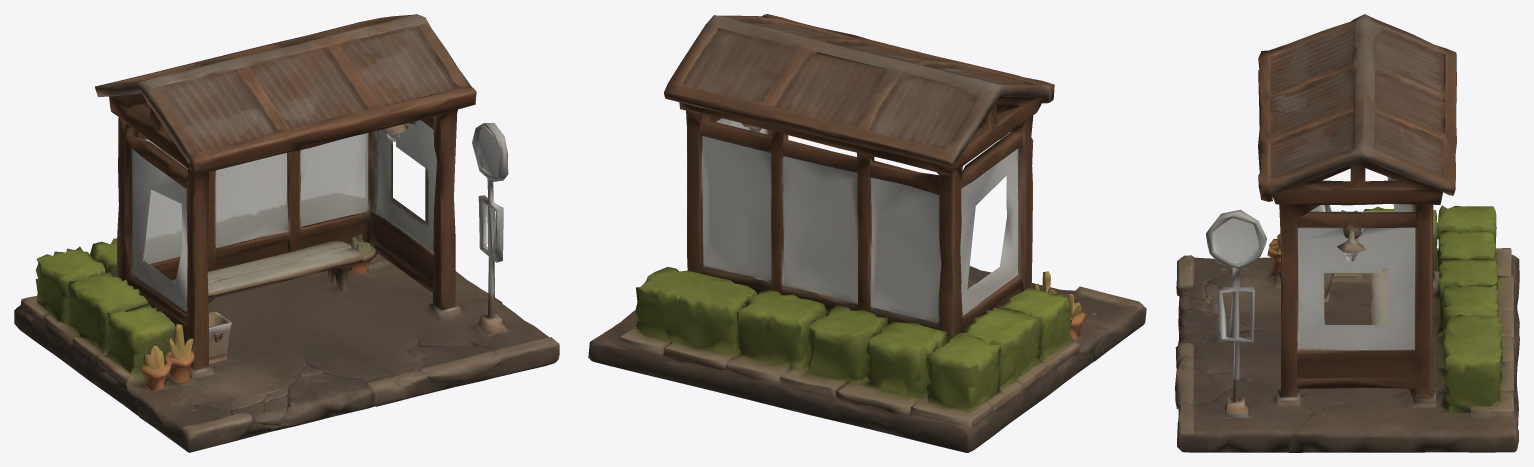
File: journey_busstop.glb
3 renders of one model, left to right at view 1: azimuth 30°, elevation 25°; view 2: azimuth 150°, elevation 25°; view 3: azimuth 270°, elevation 25°, orthographic. The views are drawn at different scales.
Visible parts, largest first — view 1: tripo_node_fb500eee-0695-4ec4-a525-e426055cff51; view 2: tripo_node_fb500eee-0695-4ec4-a525-e426055cff51; view 3: tripo_node_fb500eee-0695-4ec4-a525-e426055cff51.
Boxes of the visible parts, <box> form: tripo_node_fb500eee-0695-4ec4-a525-e426055cff51: <box>14,14,559,452</box>; tripo_node_fb500eee-0695-4ec4-a525-e426055cff51: <box>588,14,1146,452</box>; tripo_node_fb500eee-0695-4ec4-a525-e426055cff51: <box>1175,14,1519,452</box>.
Bounding box in the file's own units: 1 × 0.744 × 0.8152.
Materials: 1 (1 with a texture image).
